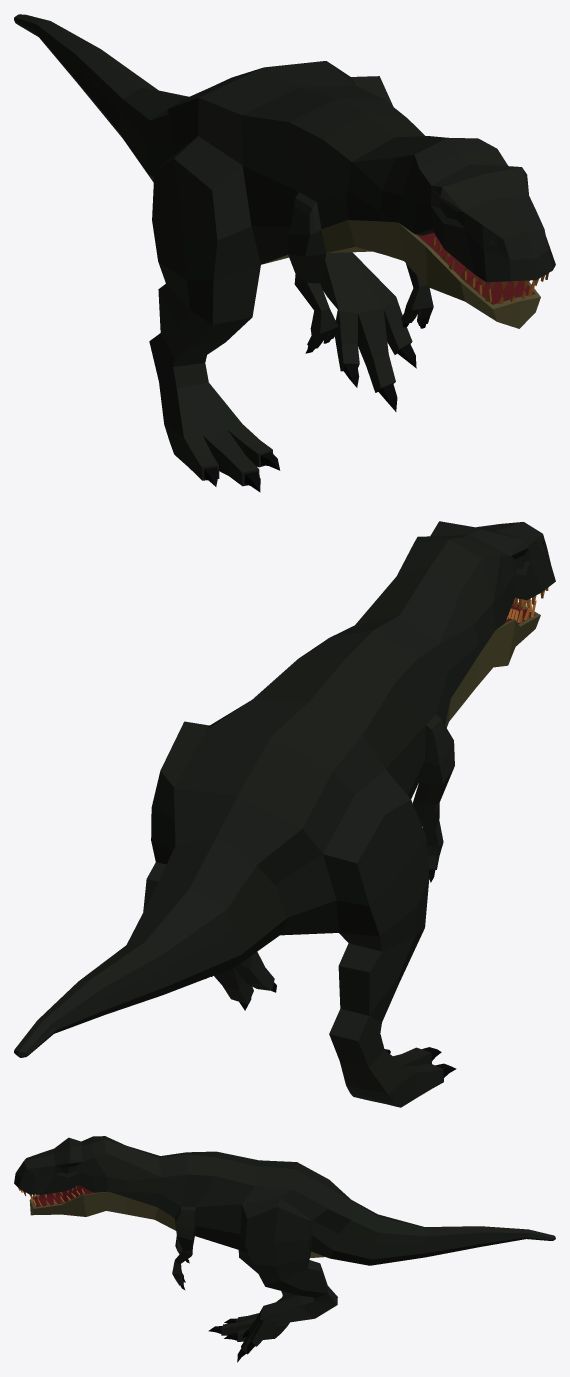
The model's file is Trex_000024.obj.
3 renders of one model, top to bottom at view 1: azimuth 30°, elevation 25°; view 2: azimuth 150°, elevation 25°; view 3: azimuth 270°, elevation 25°, orthographic. The views are drawn at different scales.
Parts seen in each view (by area): view 1: Trex_Cylinder; view 2: Trex_Cylinder; view 3: Trex_Cylinder.
Part boxes in pixels (x1,y1,x2,y2): Trex_Cylinder: [14, 14, 555, 492]; Trex_Cylinder: [14, 521, 555, 1107]; Trex_Cylinder: [14, 1136, 555, 1362].
Size of the model in its own units: 7.96 by 13.85 by 31.37.
